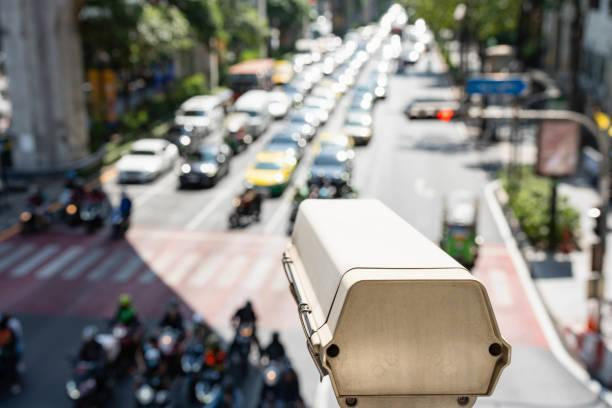camera: (266, 190, 522, 403)
